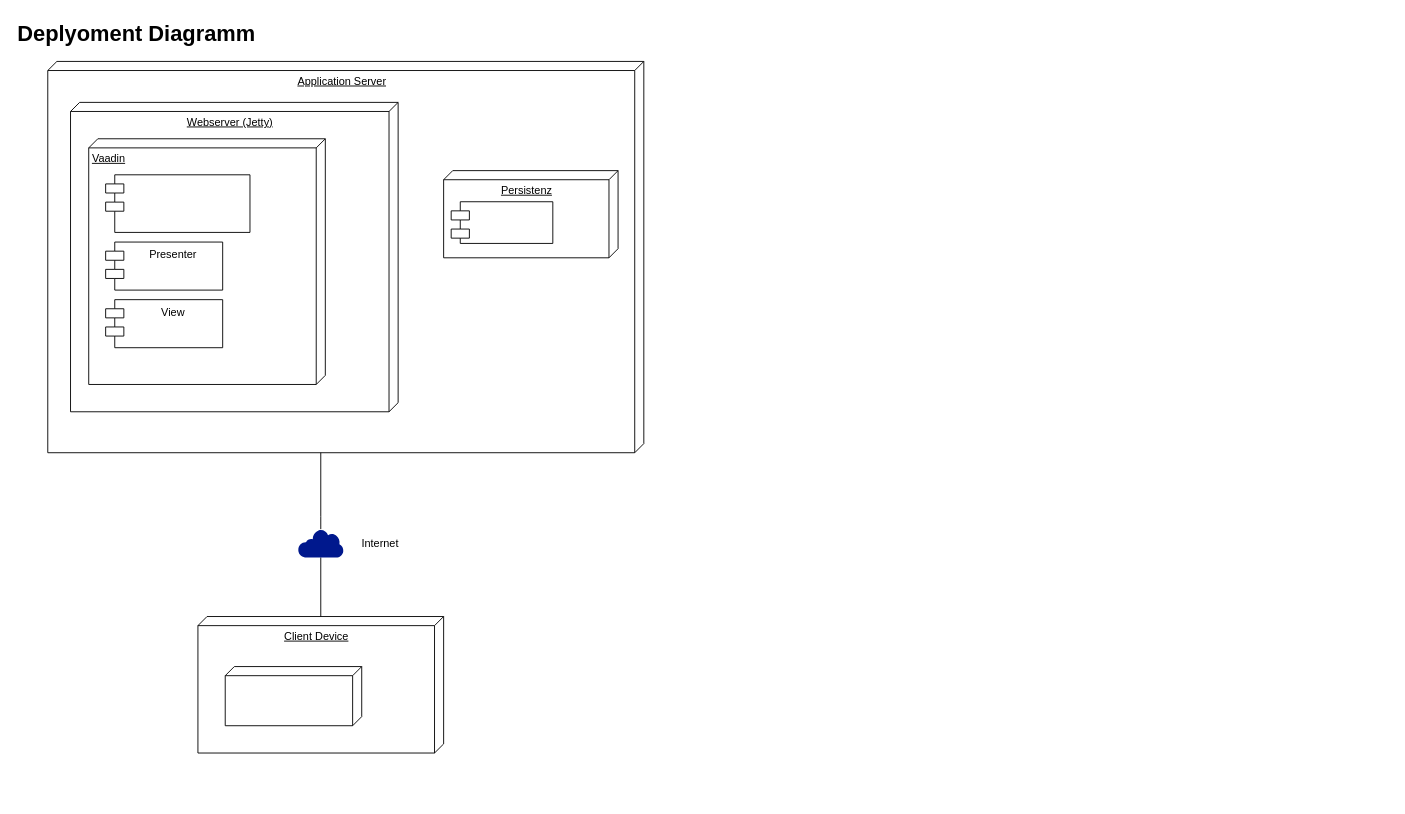
This 1405x814 diagram has some shape labels left out. Each missing label, with the centre of its shape:
Browser: pixel 293 696
DAO: pixel 501 222
Model: pixel 177 203
